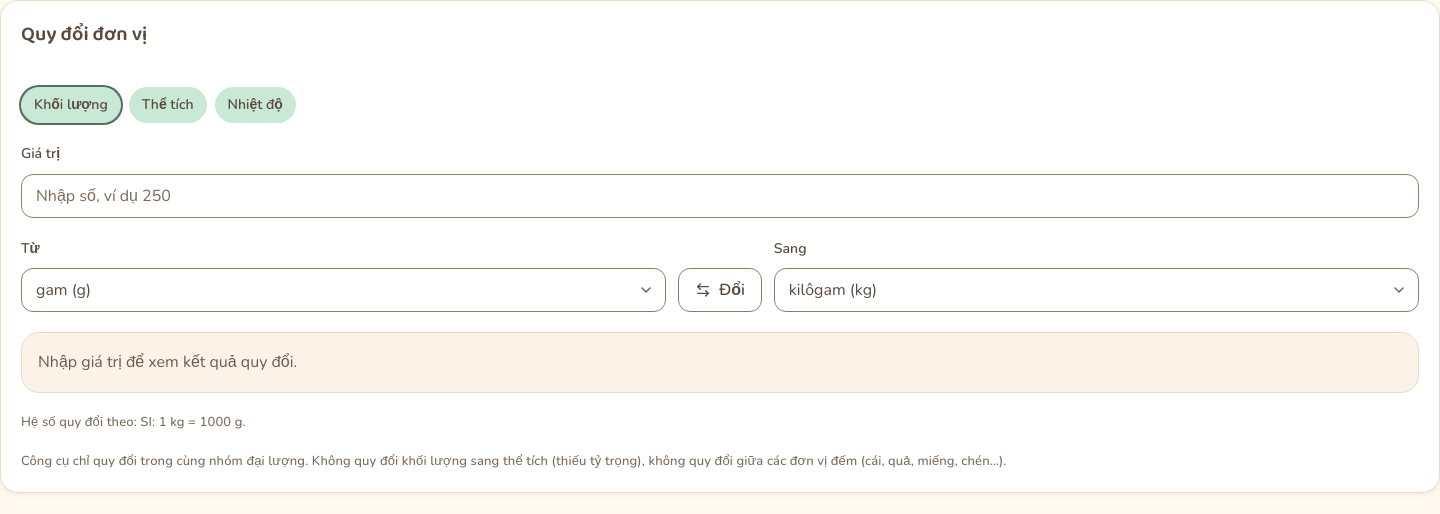
Test: P10 — UnitConverter › quy đổi trong cùng nhóm (g → kg)
The width and height of the screenshot is (1440, 514).
Type "1000" into the field labelled "Giá trị" at coordinates (720, 196), box left=21, top=174, right=1419, bottom=218
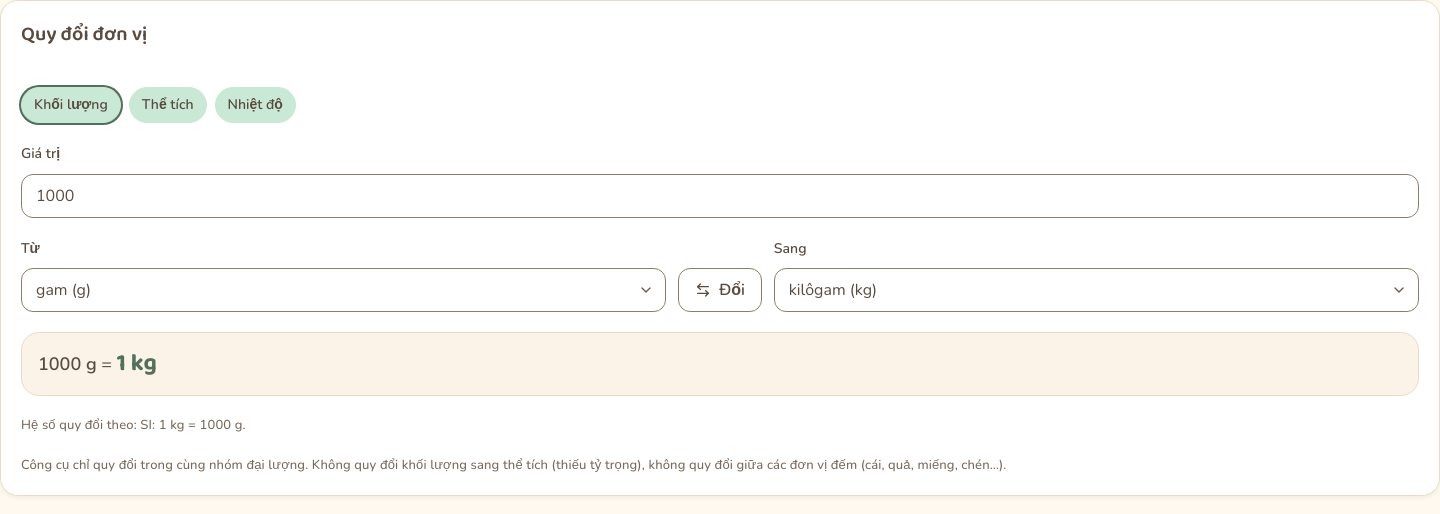
Expected: the text "1 kg" is shown, left=117, top=344, right=157, bottom=383
